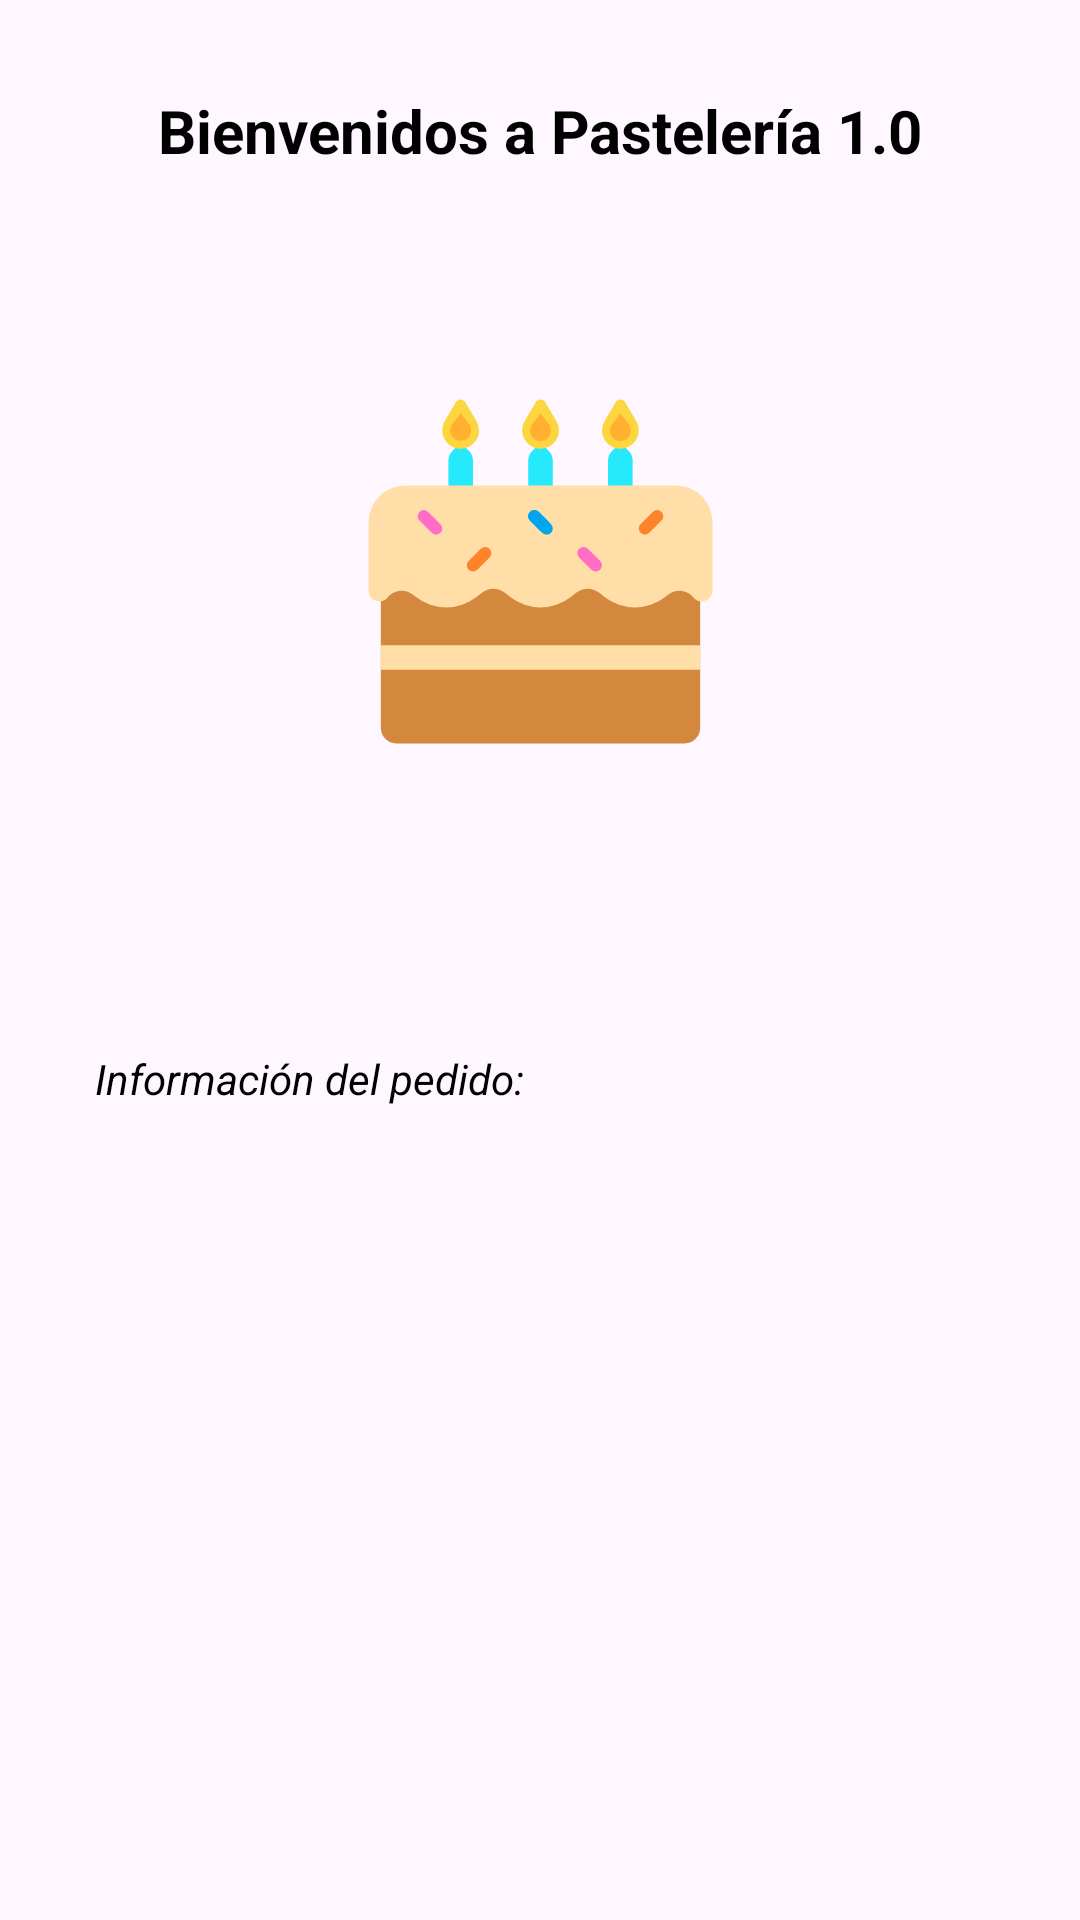

Locate icon controls on the screen. Image size 1080px×1920px, boxes as {"left": x1, "top": y1, "right": x2, "bottom": y2}.
fluent emoji birthday cake: {"left": 368, "top": 399, "right": 713, "bottom": 744}
